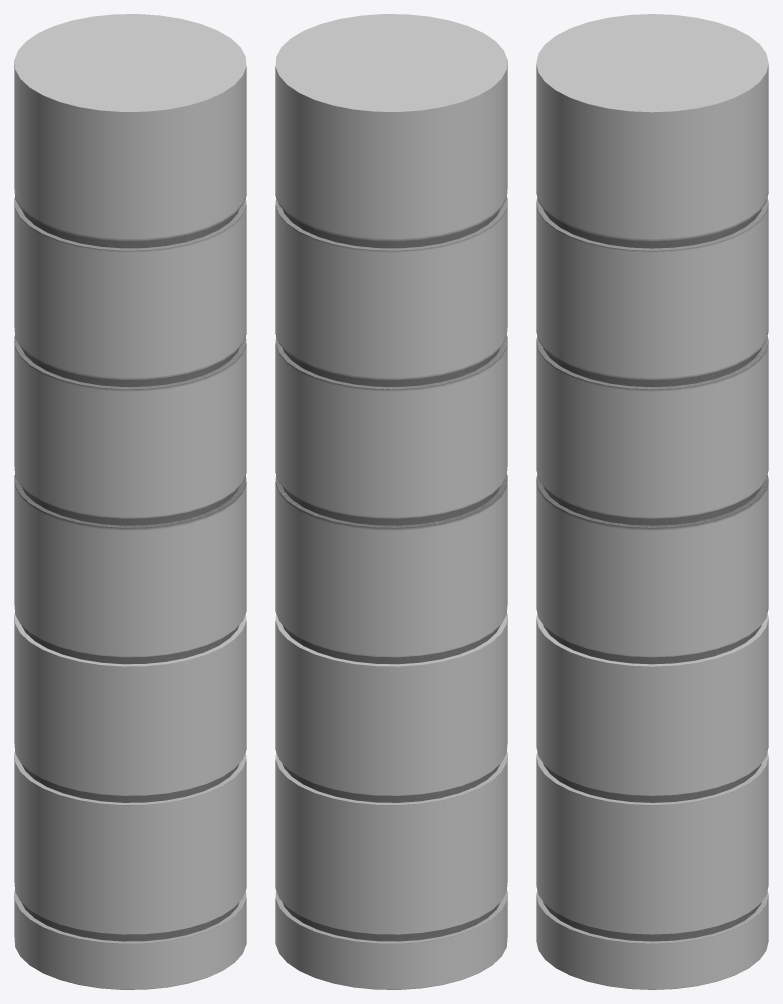
Rendered from poll.fbx.
The picture shows the model from 3 angles, left to right: view 1: azimuth 30°, elevation 25°; view 2: azimuth 150°, elevation 25°; view 3: azimuth 270°, elevation 25°; orthographic projection.
Parts seen in each view (by area): view 1: 円柱; view 2: 円柱; view 3: 円柱.
Part boxes in pixels (bbox=[...]): 円柱: bbox=[14, 14, 246, 989]; 円柱: bbox=[275, 14, 507, 989]; 円柱: bbox=[536, 14, 768, 989].
Bounding box in the file's own units: 456 × 1900 × 456.
